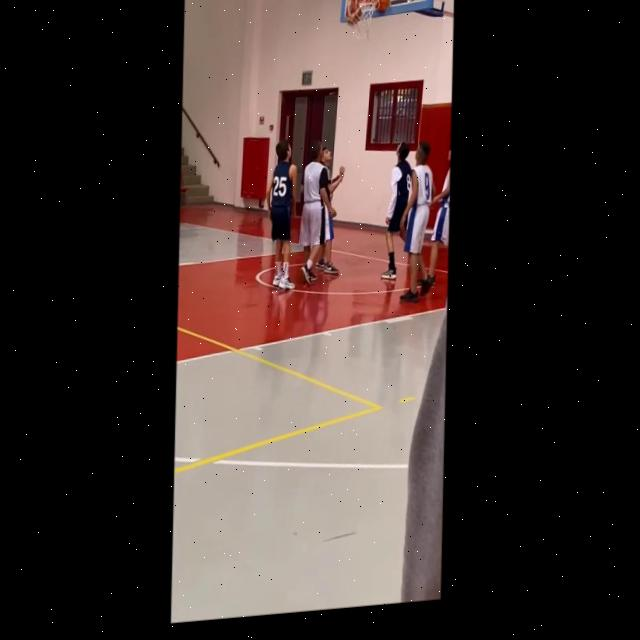basketball: (344, 0, 363, 28)
hoop: (343, 0, 383, 45), (344, 0, 383, 45)
